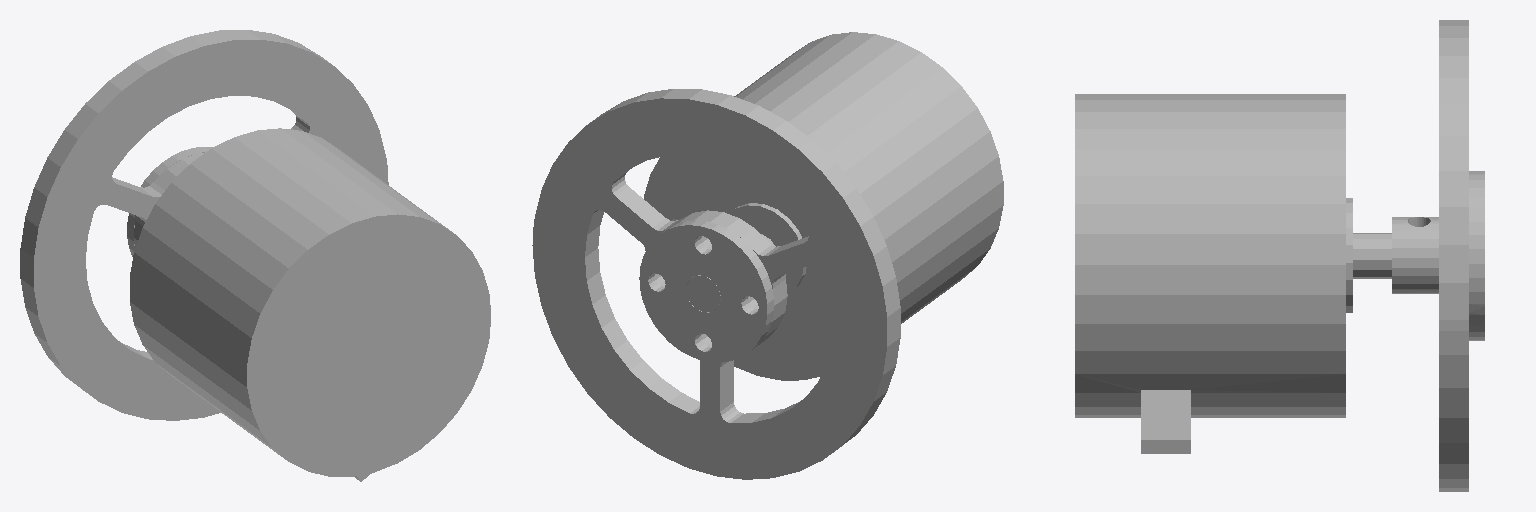
robot.urdf — triangle:
<?xml version="1.0" encoding="utf-8"?>
<!-- This URDF was automatically created by SolidWorks to URDF Exporter! Originally created by [author] ([email redacted]) 
     Commit Version: 1.6.0-4-g7f85cfe  Build Version: 1.6.7995.38578
     For more information, please see http://wiki.ros.org/sw_urdf_exporter -->
<robot
  name="triangle">
  <link
    name="base_link">
    <inertial>
      <origin
        xyz="0.051745 -0.0091967 -0.06306"
        rpy="0 0 0" />
      <mass
        value="0.1019" />
      <inertia
        ixx="5.536E-05"
        ixy="-2.3413E-09"
        ixz="-1.0567E-09"
        iyy="0.00019641"
        iyz="9.0441E-07"
        izz="0.0002259" />
    </inertial>
    <visual>
      <origin
        xyz="0 0 0"
        rpy="0 0 0" />
      <geometry>
        <mesh
          filename="meshes/base_link.STL" />
      </geometry>
      <material
        name="">
        <color
          rgba="0.75294 0.75294 0.75294 1" />
      </material>
    </visual>
    <collision>
      <origin
        xyz="0 0 0"
        rpy="0 0 0" />
      <geometry>
        <mesh
          filename="meshes/base_link.STL" />
      </geometry>
    </collision>
  </link>
  <link
    name="reaction_wheel">
    <inertial>
      <origin
        xyz="0.051515 0.019631 0.060459"
        rpy="0 0 0" />
      <mass
        value="0.058143" />
      <inertia
        ixx="1.3156E-05"
        ixy="-1.2406E-07"
        ixz="4.1816E-08"
        iyy="1.2981E-05"
        iyz="7.252E-08"
        izz="1.5356E-05" />
    </inertial>
    <visual>
      <origin
        xyz="0 0 0"
        rpy="0 0 0" />
      <geometry>
        <mesh
          filename="meshes/reaction_wheel.STL" />
      </geometry>
      <material
        name="">
        <color
          rgba="0.75294 0.75294 0.75294 1" />
      </material>
    </visual>
    <collision>
      <origin
        xyz="0 0 0"
        rpy="0 0 0" />
      <geometry>
        <mesh
          filename="meshes/reaction_wheel.STL" />
      </geometry>
    </collision>
  </link>
  <joint
    name="reaction_wheel_joint"
    type="revolute">
    <origin
      xyz="0 0 0"
      rpy="-1.5708 0 0" />
    <parent
      link="base_link" />
    <child
      link="reaction_wheel" />
    <axis
      xyz="0 1 0" />
    <limit
      lower="0"
      upper="0"
      effort="0"
      velocity="0" />
  </joint>
</robot>

--- Render facts (derived) ---
The picture shows the robot from 3 angles, left to right: view 1: azimuth 30°, elevation 25°; view 2: azimuth 150°, elevation 25°; view 3: azimuth 270°, elevation 25°; orthographic projection.
Robot: triangle — 2 links, 1 joints (1 revolute); root link base_link; default pose: every joint at zero.
Links seen in each view (by area): view 1: reaction_wheel; view 2: reaction_wheel; view 3: reaction_wheel.
Link boxes in pixels (<box>): reaction_wheel: <box>20,30,490,481</box>; reaction_wheel: <box>532,32,1003,479</box>; reaction_wheel: <box>1075,20,1484,491</box>.
Bounding box of the posed robot: 0.0609 × 0.053 × 0.061 m (x, y, z).
Meshes: 2 distinct files referenced, 1 mesh visuals loaded (1 binary STL); not drawn: 1 (reference not matched to a file when rendering).